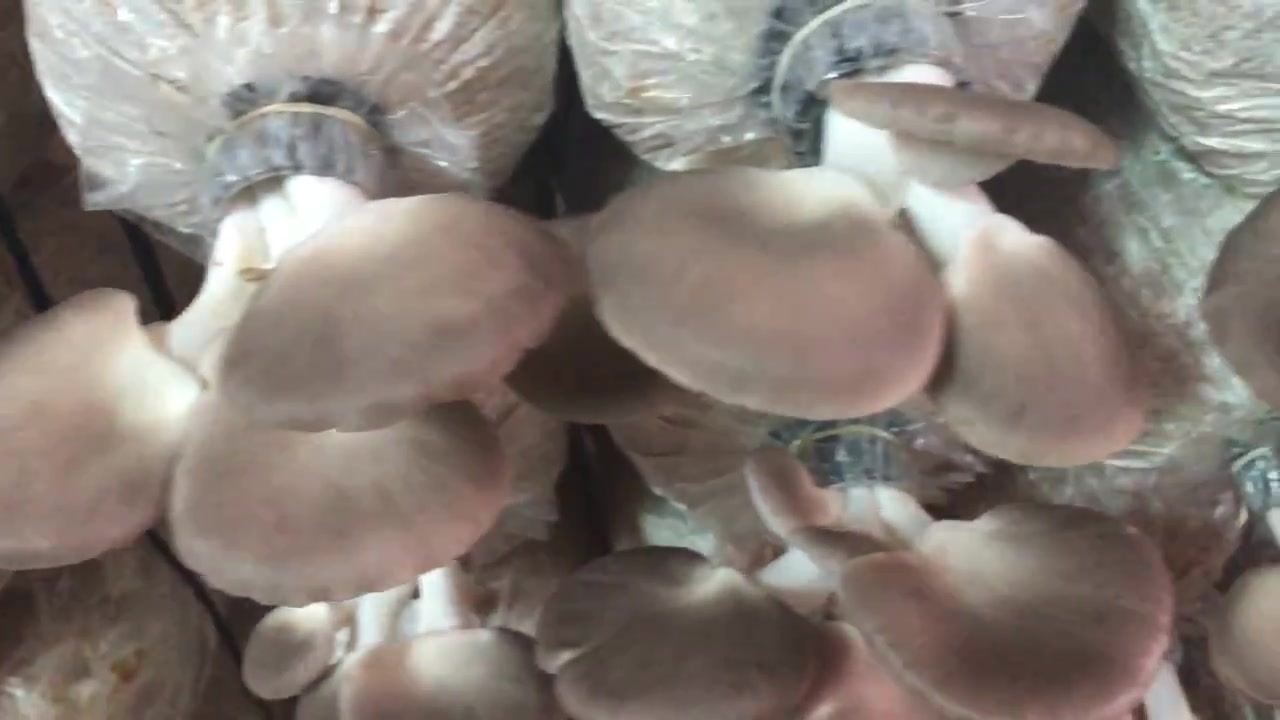nam: (1, 107, 574, 606), (589, 1, 1139, 470), (538, 430, 1169, 720), (245, 562, 538, 720), (506, 214, 684, 421), (1202, 191, 1280, 401), (1217, 448, 1280, 695)
